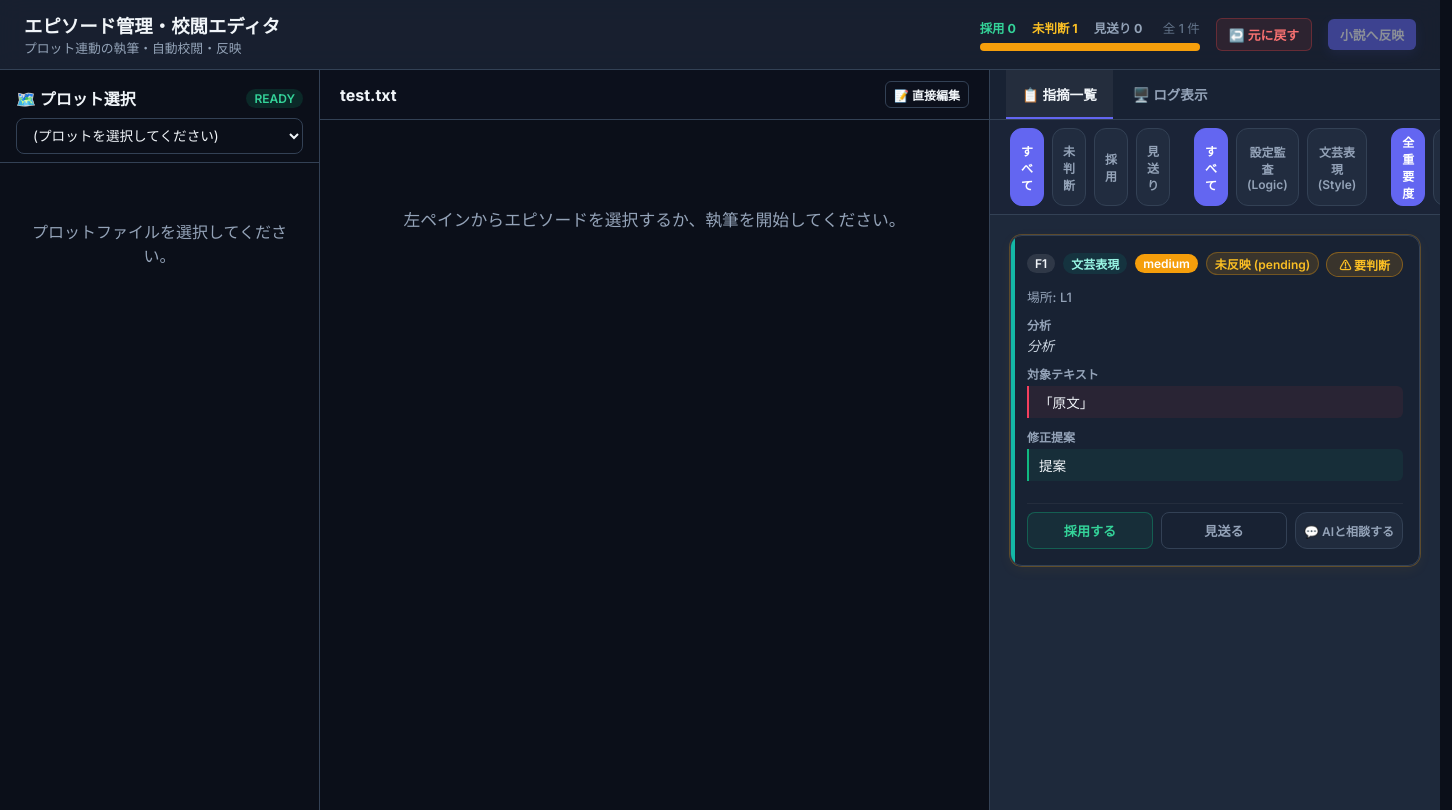
it: Editor decision workflow › accepts a finding, updates header counts, and toggles back to undecided on a second click
Expected: the text "未判断 1" is shown, [1032, 18, 1078, 36]
Click the button "採用する".
click(1090, 530)  # box [1027, 512, 1153, 549]
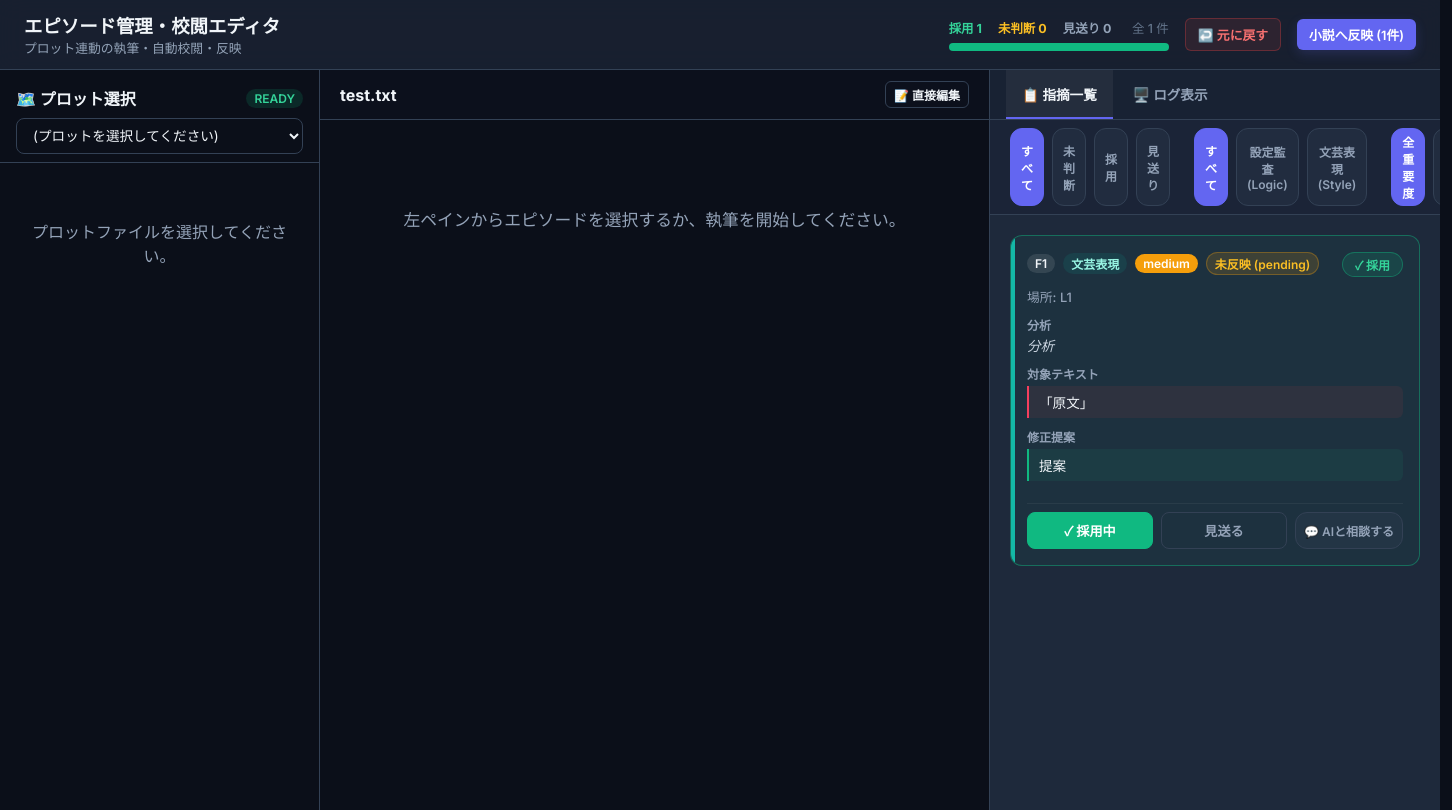
Expected: the button "✓ 採用中" is shown
Expected: the text "採用 1" is shown, [949, 18, 982, 36]
Expected: the text "未判断 0" is shown, [998, 18, 1047, 36]
Click the button "✓ 採用中".
click(1090, 530)  # box [1027, 512, 1153, 549]
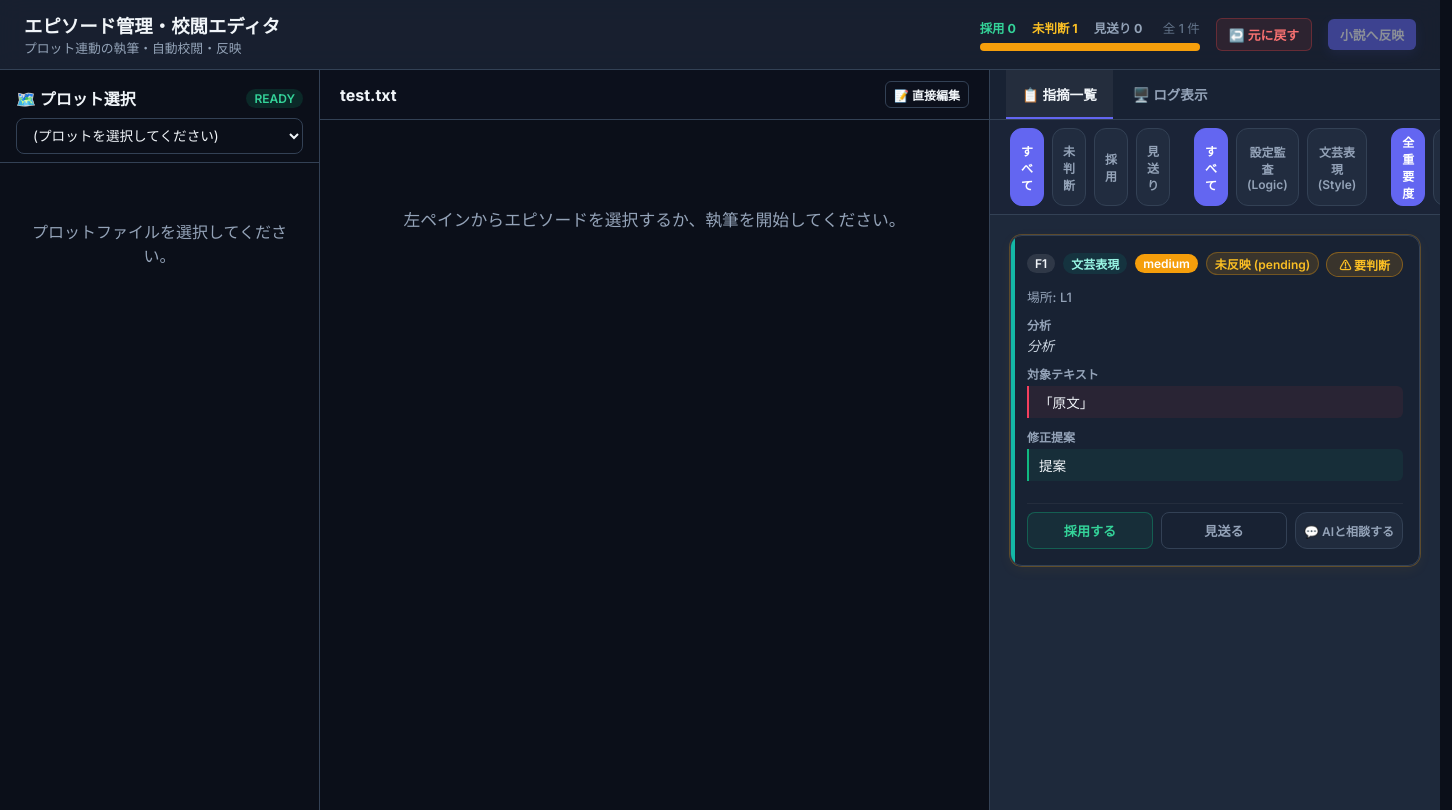
Expected: the button "採用する" is shown, [1027, 512, 1153, 549]
Expected: the text "未判断 1" is shown, [1032, 18, 1078, 36]
